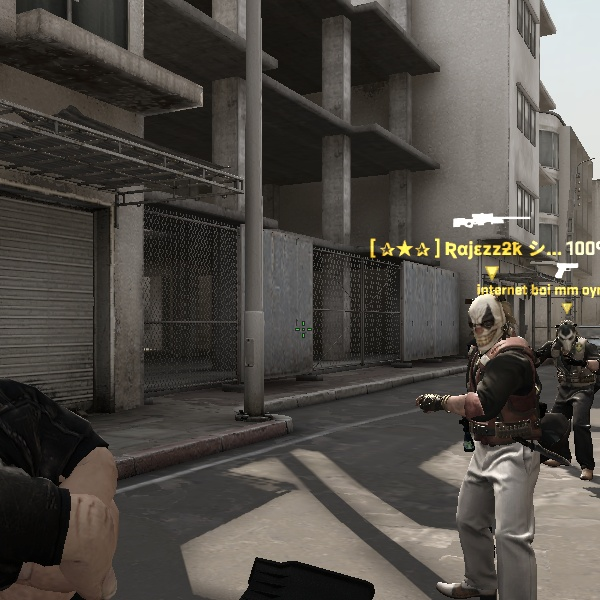t_body: (401, 289, 572, 600), (530, 316, 600, 495)
t_head: (457, 290, 529, 359), (549, 316, 586, 352)
